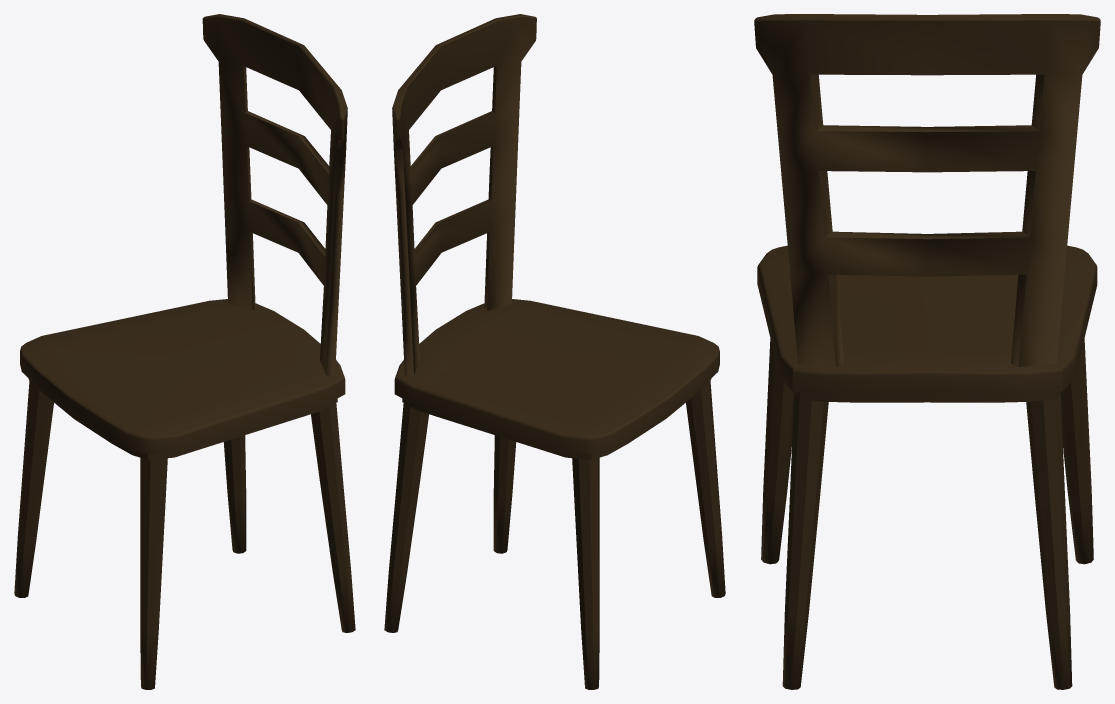
File: Stuhl1.fbx
The picture shows the model from 3 angles, left to right: view 1: azimuth 30°, elevation 25°; view 2: azimuth 150°, elevation 25°; view 3: azimuth 270°, elevation 25°; orthographic projection. The views are drawn at different scales.
Visible parts, largest first — view 1: chair_lp; view 2: chair_lp; view 3: chair_lp.
Boxes of the visible parts, <box> form: chair_lp: <box>14,14,355,689</box>; chair_lp: <box>384,14,725,689</box>; chair_lp: <box>754,14,1100,689</box>.
Bounding box in the file's own units: 64.55 × 141 × 65.66.
